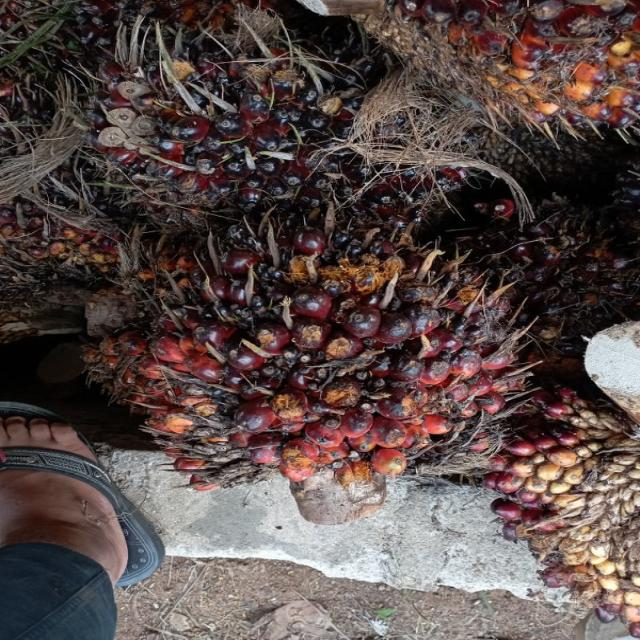fraksi 00: (78, 17, 458, 224)
fraksi 1: (87, 220, 529, 496)
